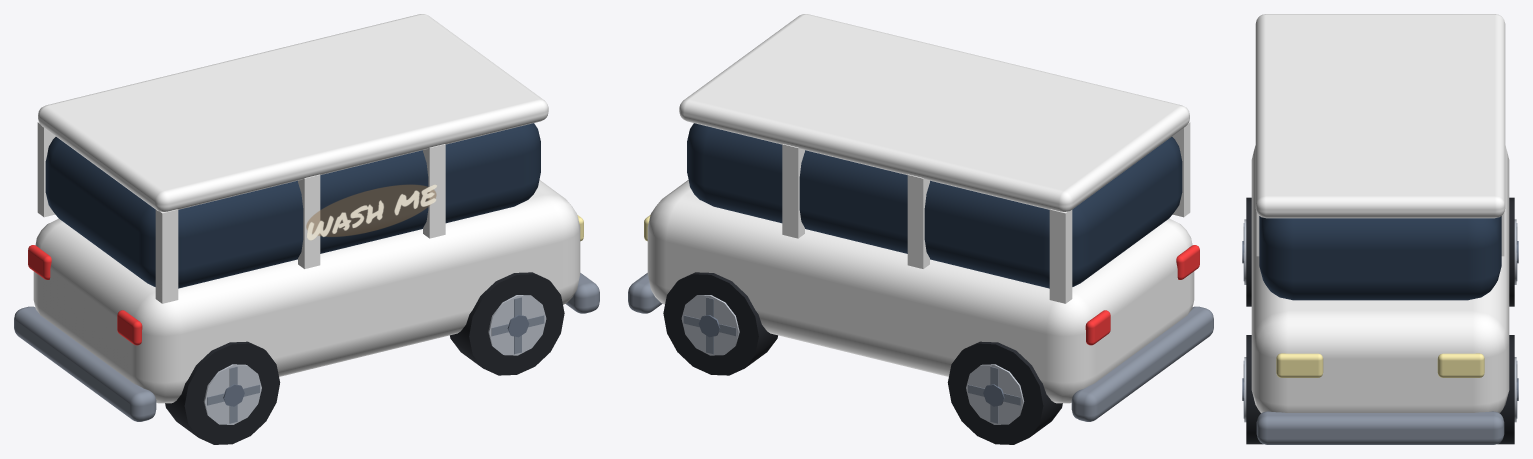
File: car_van.glb
The picture shows the model from 3 angles, left to right: view 1: azimuth 30°, elevation 25°; view 2: azimuth 150°, elevation 25°; view 3: azimuth 270°, elevation 25°; orthographic projection.
Parts seen in each view (by area): view 1: Paint, Trim, Wheel0, Wheel1, WashMe; view 2: Paint, Trim, Wheel2, Wheel3; view 3: Paint, Trim, Wheel0, Wheel2, Wheel1, Wheel3.
Part boxes in pixels (x1,y1,x2,y2): Paint: (33, 14, 580, 403); Trim: (14, 123, 599, 421); Wheel0: (450, 272, 564, 375); Wheel1: (165, 341, 280, 444); WashMe: (306, 184, 437, 240); Paint: (647, 14, 1194, 403); Trim: (628, 123, 1213, 421); Wheel2: (663, 272, 777, 375); Wheel3: (947, 341, 1062, 444); Paint: (1251, 14, 1509, 413); Trim: (1256, 216, 1504, 444); Wheel0: (1242, 335, 1262, 444); Wheel2: (1498, 335, 1518, 444); Wheel1: (1242, 197, 1251, 306); Wheel3: (1509, 197, 1518, 306).
Bounding box in the file's own units: 4.12 × 2.19 × 2.12.
Materials: 7 (1 with a texture image).
